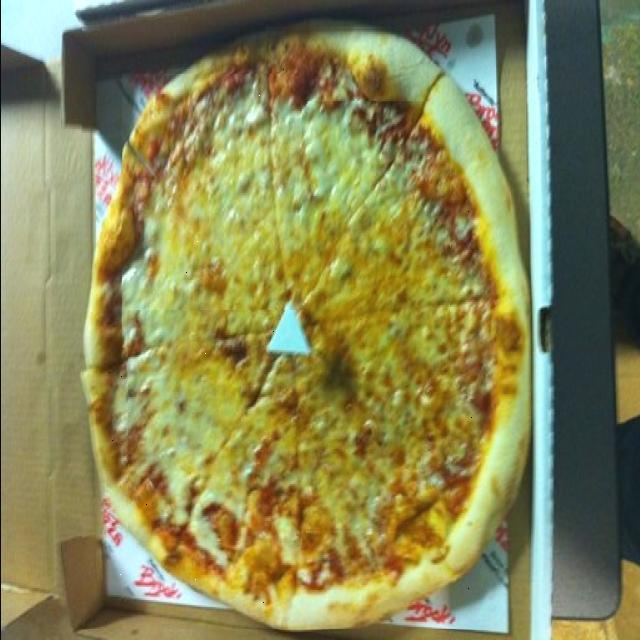cheese: (301, 101, 449, 530), (121, 72, 298, 346), (127, 310, 305, 542)
pizza: (82, 29, 530, 628)
